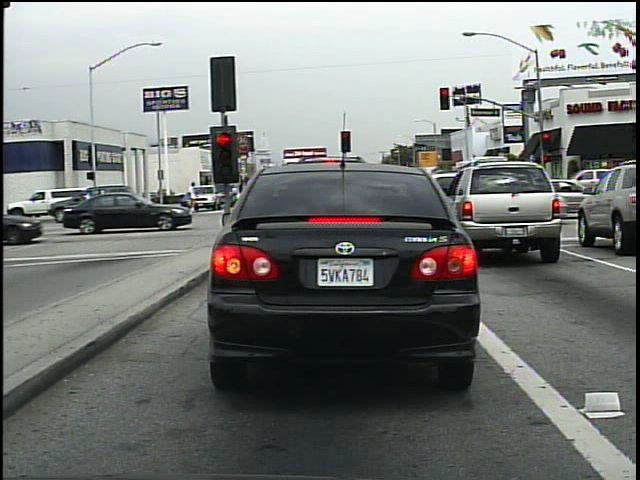person: (182, 178, 199, 215)
